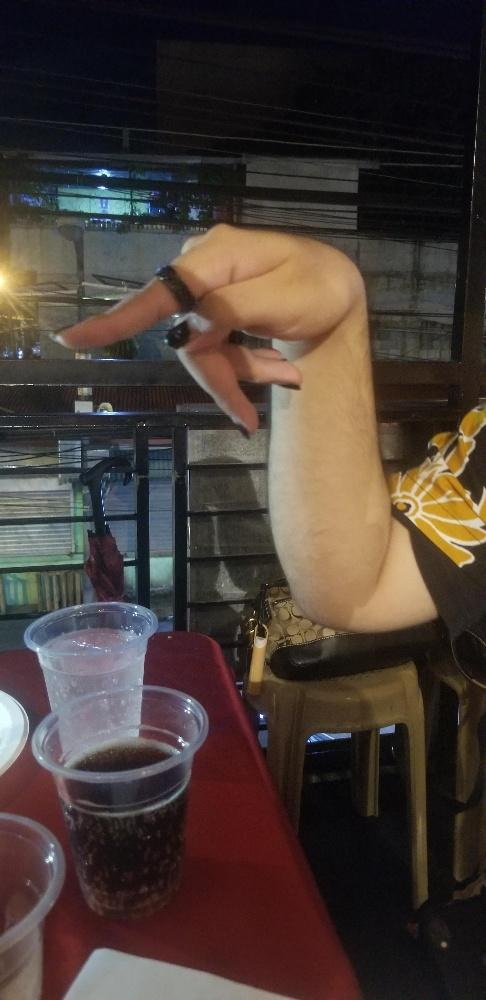p: (71, 220, 366, 433)
